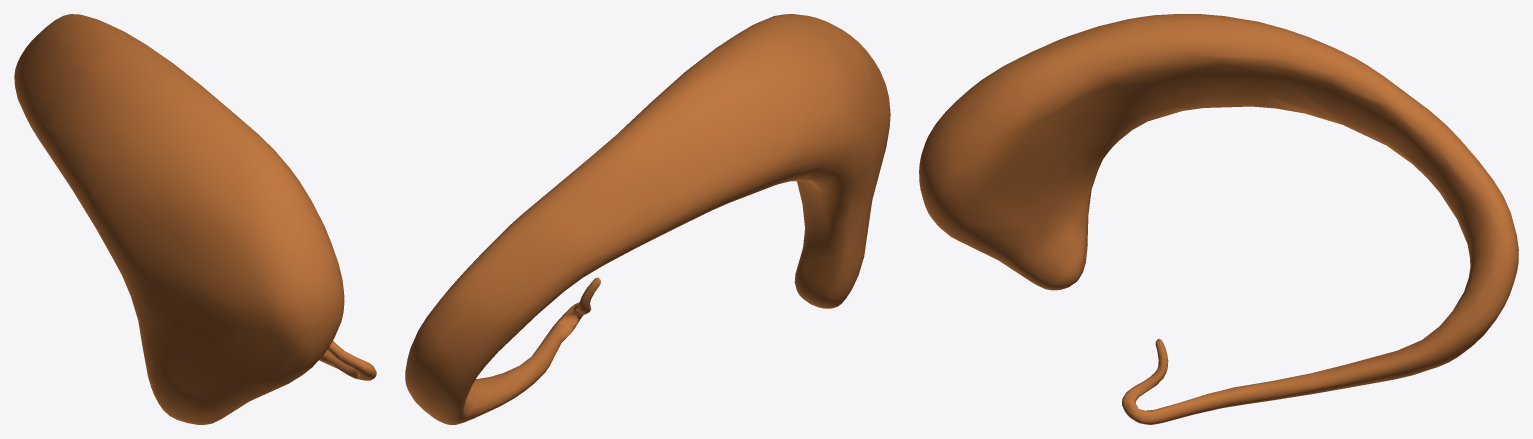
Rendered from Caudate_nucleus_left.glb.
3 renders of one model, left to right at view 1: azimuth 30°, elevation 25°; view 2: azimuth 150°, elevation 25°; view 3: azimuth 270°, elevation 25°, orthographic. The views are drawn at different scales.
Visible parts, largest first — view 1: Caudate_nucleus.l_grp1.113; view 2: Caudate_nucleus.l_grp1.113; view 3: Caudate_nucleus.l_grp1.113.
Part boxes in pixels (x1,y1,x2,y2): Caudate_nucleus.l_grp1.113: (14, 14, 376, 424); Caudate_nucleus.l_grp1.113: (405, 14, 890, 424); Caudate_nucleus.l_grp1.113: (919, 14, 1518, 424).
Bounding box in the file's own units: 0.0309 × 0.036 × 0.0617.
